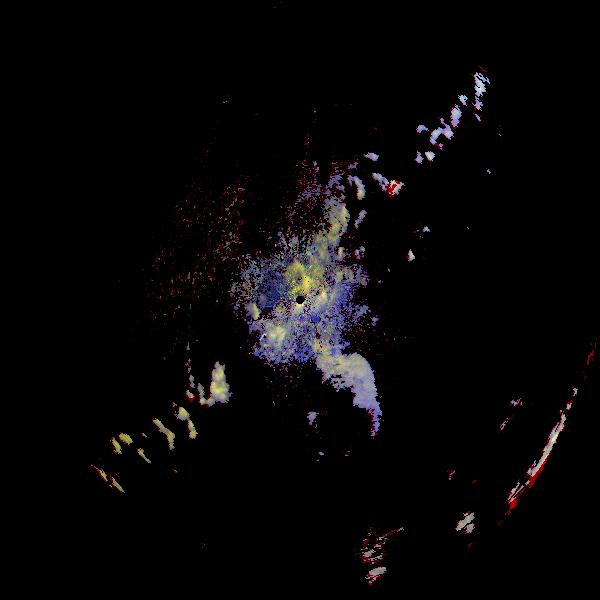roost: (181, 89, 385, 293), (246, 328, 408, 490)
